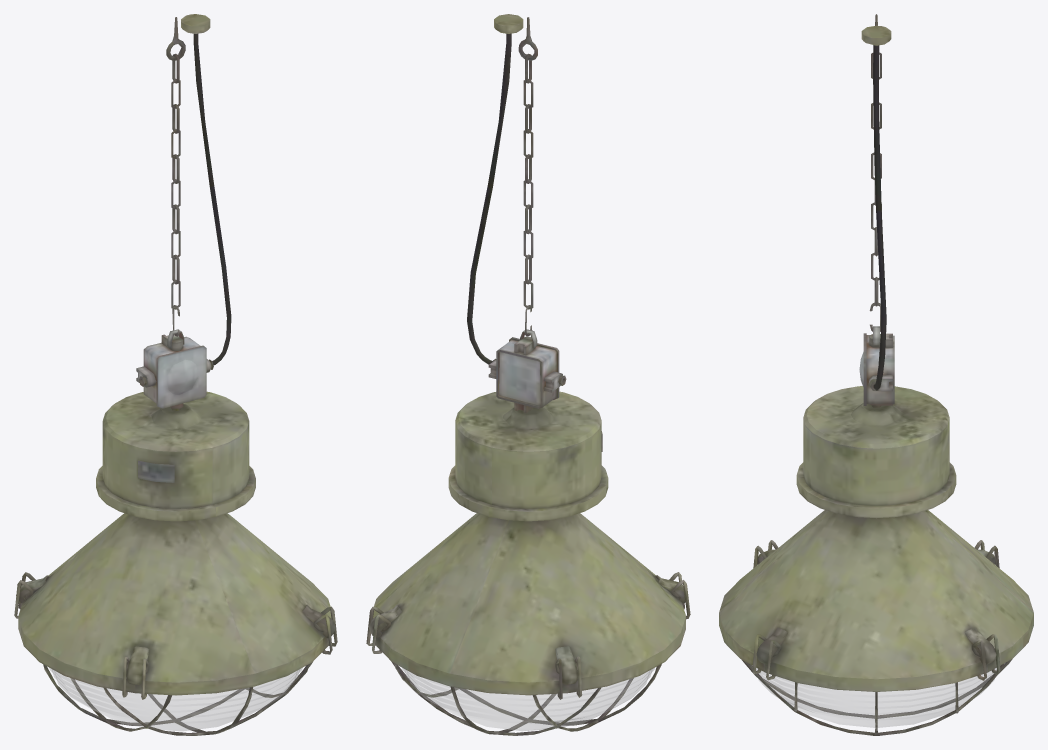
The model's file is hanging_industrial_lamp.glb.
The picture shows the model from 3 angles, left to right: view 1: azimuth 30°, elevation 25°; view 2: azimuth 150°, elevation 25°; view 3: azimuth 270°, elevation 25°; orthographic projection.
Parts seen in each view (by area): view 1: hanging_industrial_lamp; view 2: hanging_industrial_lamp; view 3: hanging_industrial_lamp.
Boxes of the visible parts, x1,y1,x2,y2 form: hanging_industrial_lamp: (14,14,337,735); hanging_industrial_lamp: (366,14,690,735); hanging_industrial_lamp: (719,14,1033,735).
Bounding box in the file's own units: 0.5497 × 1.36 × 0.5497.
Materials: 2 (1 with a texture image).
